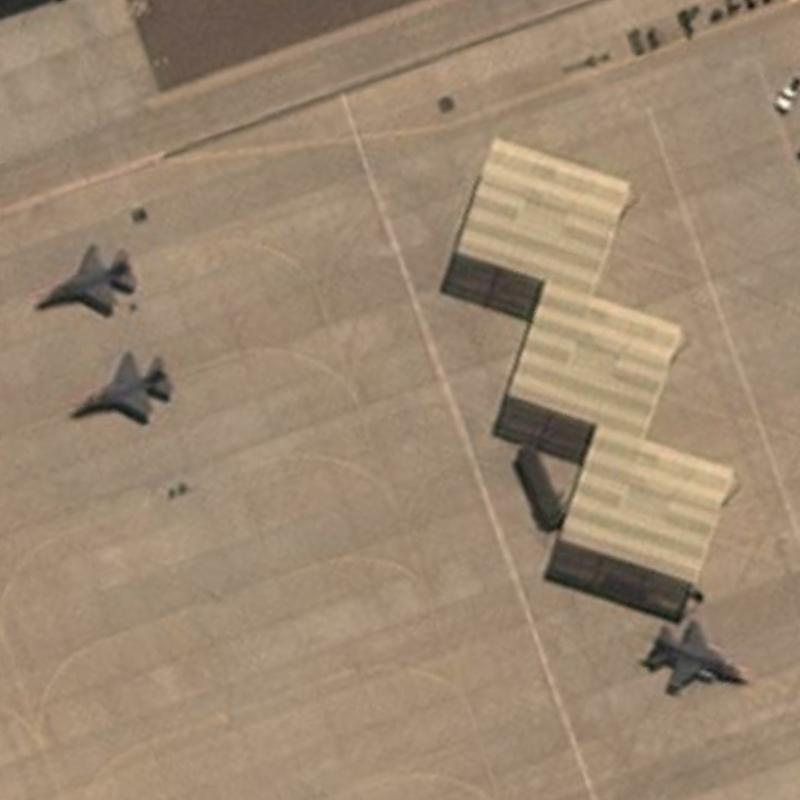A5: (28, 236, 142, 324), (59, 344, 178, 428), (638, 614, 752, 700)
